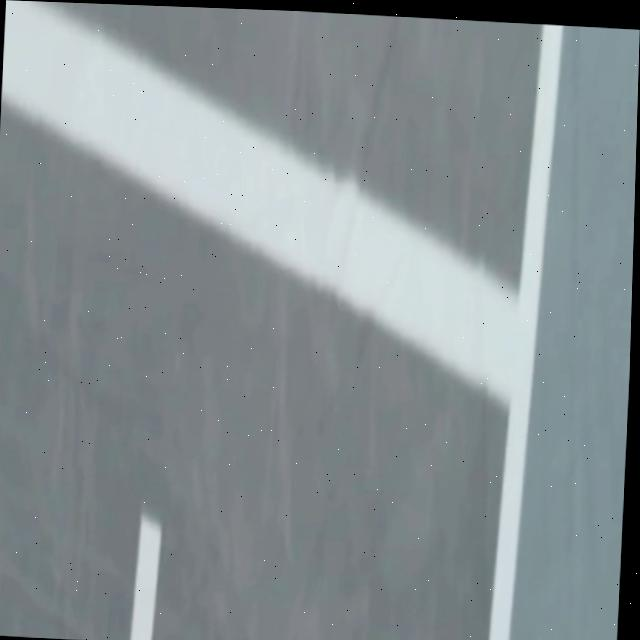center: (130, 513, 161, 640)
left: (489, 24, 563, 640)
